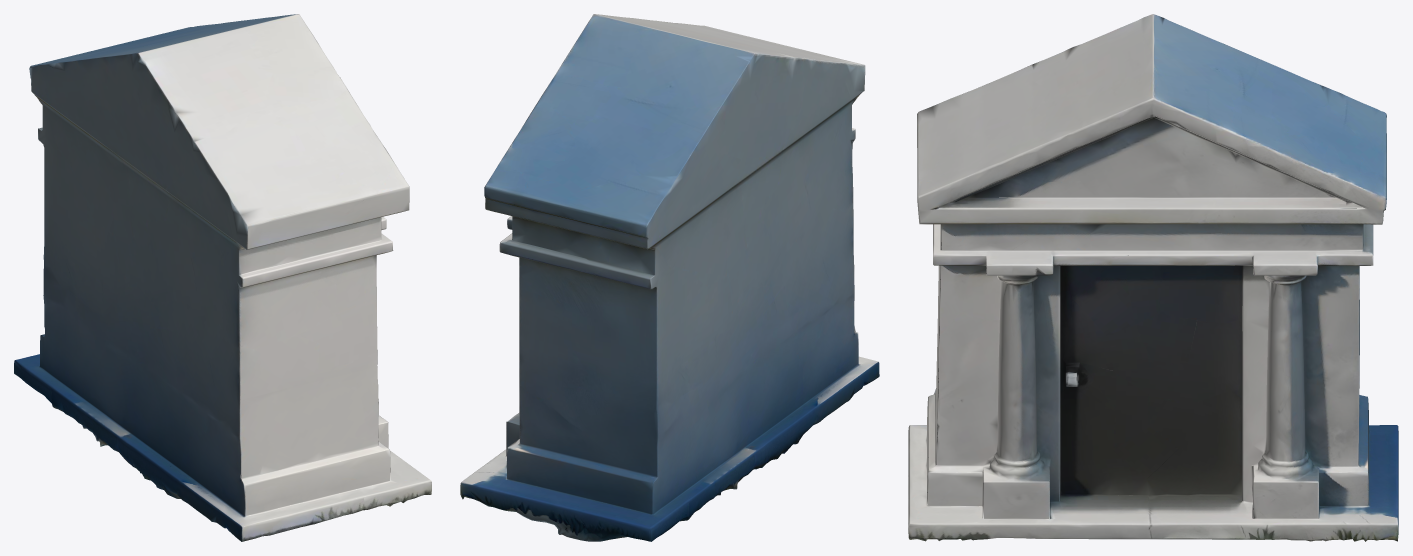
The model's file is mausoleum.fbx.
3 renders of one model, left to right at view 1: azimuth 30°, elevation 25°; view 2: azimuth 150°, elevation 25°; view 3: azimuth 270°, elevation 25°, orthographic. The views are drawn at different scales.
Visible parts, largest first — view 1: tripo_node_9ea199b5; view 2: tripo_node_9ea199b5; view 3: tripo_node_9ea199b5.
Boxes of the visible parts, <box> form: tripo_node_9ea199b5: <box>14,14,431,541</box>; tripo_node_9ea199b5: <box>460,14,879,541</box>; tripo_node_9ea199b5: <box>908,14,1398,541</box>.
Bounding box in the file's own units: 0.48 × 1 × 0.9905.
Materials: 1 (1 with a texture image).
